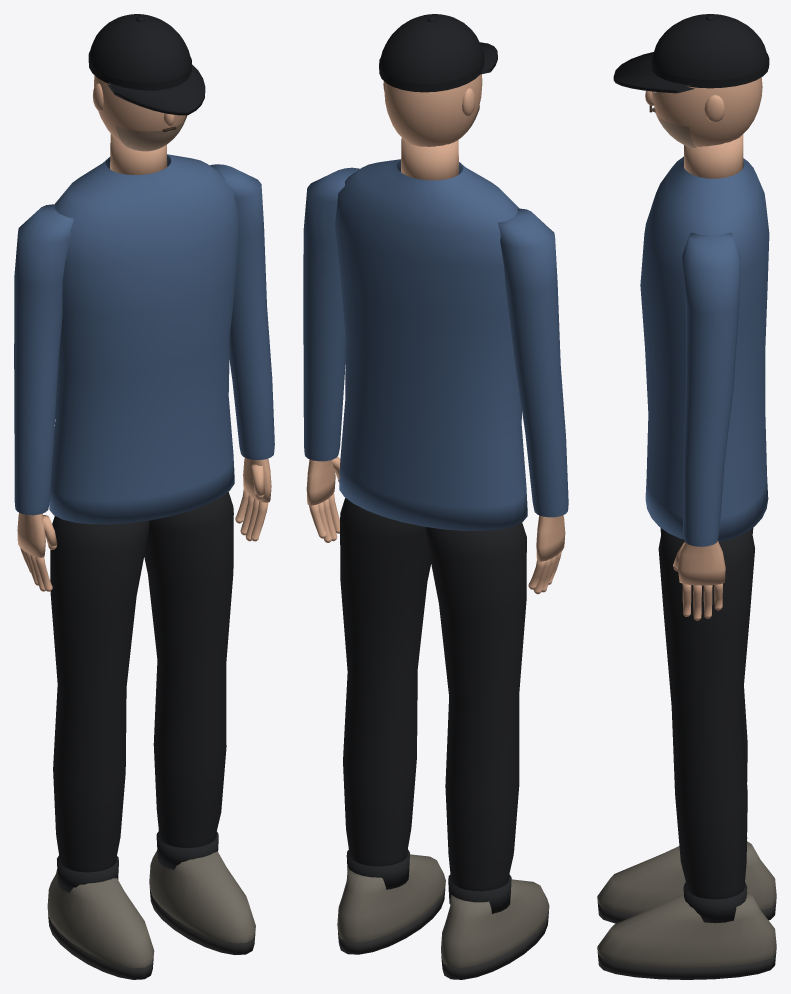
File: npc_ortiz.glb
The picture shows the model from 3 angles, left to right: view 1: azimuth 30°, elevation 25°; view 2: azimuth 150°, elevation 25°; view 3: azimuth 270°, elevation 25°; orthographic projection.
Parts seen in each view (by area): view 1: Torso, Leg_R, Leg_L, Arm_R, Arm_L, Cap, Shoe_R, Shoe_L, Head, Stubble; view 2: Torso, Leg_R, Leg_L, Arm_R, Arm_L, Shoe_R, Shoe_L, Cap, Head; view 3: Torso, Leg_L, Arm_L, Shoe_L, Cap, Head, Shoe_R, Stubble.
Part boxes in pixels (x1,y1,x2,y2): Torso: [49, 154, 239, 524]; Leg_R: [50, 516, 149, 892]; Leg_L: [144, 492, 233, 869]; Arm_R: [14, 204, 73, 591]; Arm_L: [210, 164, 274, 541]; Cap: [88, 14, 205, 115]; Shoe_R: [47, 869, 154, 979]; Shoe_L: [149, 850, 255, 954]; Head: [93, 75, 185, 174]; Stubble: [115, 115, 187, 151]; Torso: [335, 159, 527, 530]; Leg_R: [425, 522, 526, 913]; Leg_L: [340, 498, 431, 889]; Arm_R: [498, 208, 568, 594]; Arm_L: [303, 167, 359, 542]; Shoe_R: [441, 879, 549, 979]; Shoe_L: [337, 854, 445, 954]; Cap: [379, 14, 497, 92]; Head: [383, 74, 482, 180]; Torso: [640, 156, 769, 541]; Leg_L: [658, 529, 754, 923]; Arm_L: [673, 232, 740, 620]; Shoe_L: [597, 892, 776, 979]; Cap: [613, 14, 769, 93]; Head: [645, 77, 762, 178]; Shoe_R: [597, 841, 776, 923]; Stubble: [652, 107, 696, 148].
Bounding box in the file's own units: 0.528 × 1.79 × 0.316.
